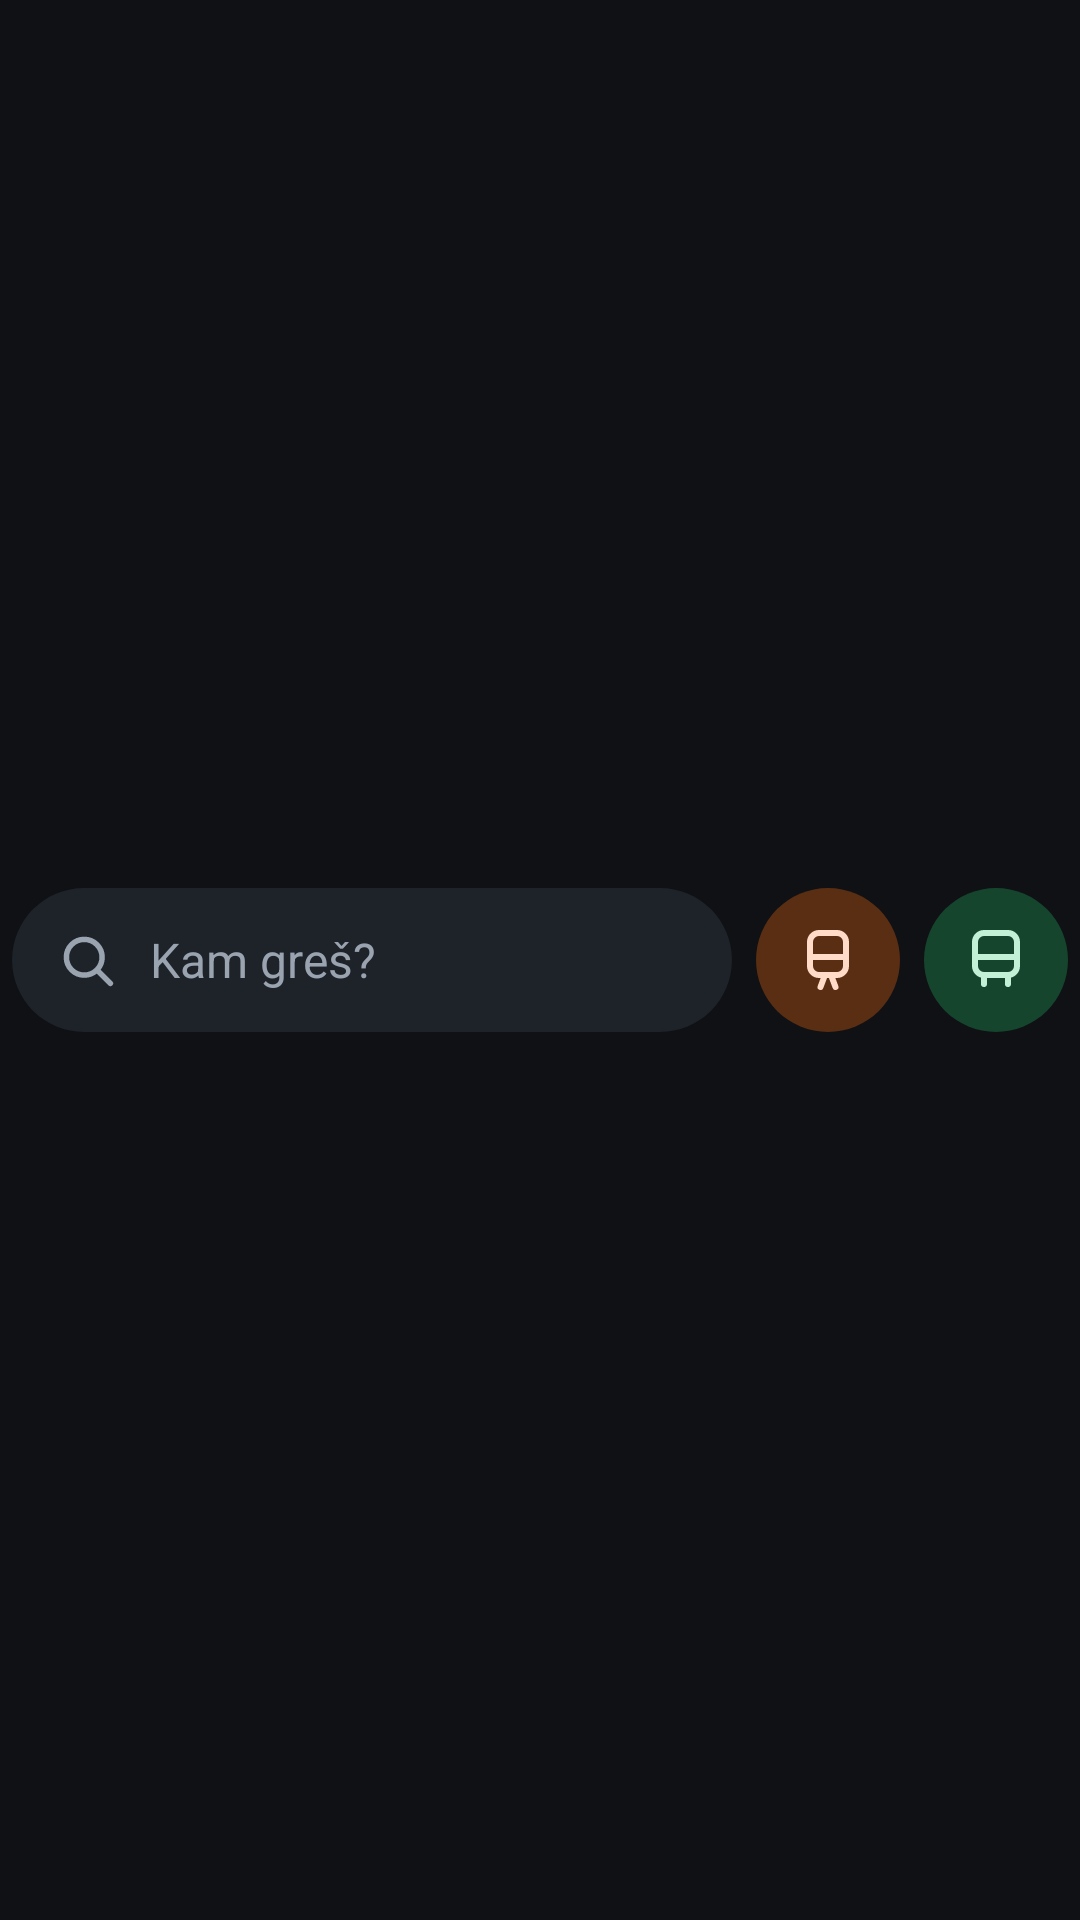

Locate icon controls on the screen. Image size 1080 x 1920, boxes as (x1, y1, x2, y2).
ikona isci: (63, 936, 114, 987)
Iskalnik avtobusov: (924, 888, 1068, 1032)
Iskalnik vlakov: (756, 888, 900, 1032)
